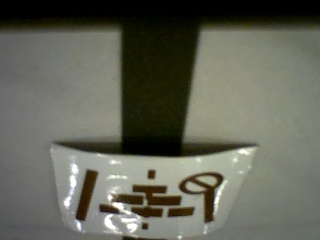Clearing_Zone: (77, 169, 222, 231)
